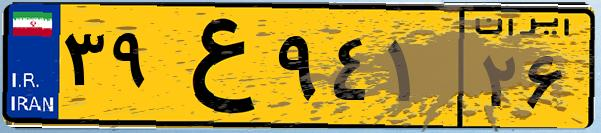1: (385, 28, 445, 110)
2: (475, 38, 525, 113)
3: (57, 26, 110, 100)
4: (330, 28, 385, 110)
6: (525, 38, 570, 115)
9: (270, 28, 330, 110), (110, 28, 158, 98)
ع: (158, 12, 270, 120)
